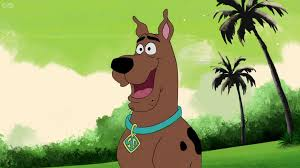scooby: (110, 9, 202, 167)
